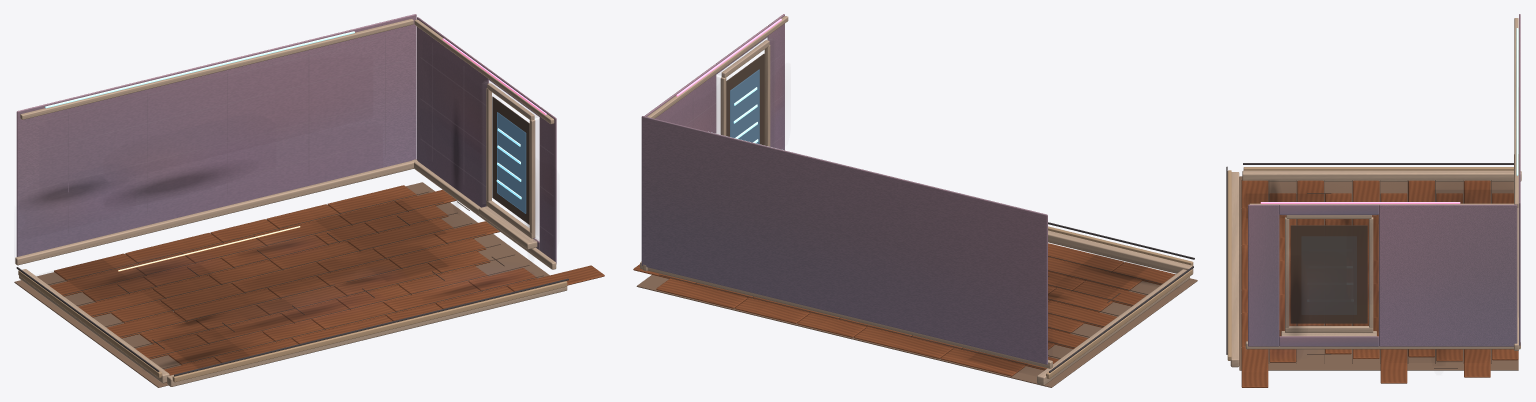
Rendered from p2s_bruno_room_surface_kit.glb.
3 views of the same model, side by side, from view 1: azimuth 30°, elevation 25°; view 2: azimuth 150°, elevation 25°; view 3: azimuth 270°, elevation 25° (orthographic). The views are drawn at different scales.
Parts seen in each view (by area): view 1: surface_back_plaster_textured_panel, surface_cycles_baked_floor_ao_probe_full_room, surface_right_plaster_segment_back_of_window, surface_floor_warm_gap_substrate, surface_back_baseboard_cream_trim, surface_right_window_recess_shadow_panel, surface_back_crown_trim, surface_front_cutaway_plywood_core, surface_right_plaster_segment_front_of_window, surface_right_window_deep_glass, surface_front_cutaway_wood_edge, surface_floor_plank_1_0 (+70 smaller); view 2: surface_back_plaster_textured_panel, surface_floor_warm_gap_substrate, surface_cycles_baked_floor_ao_probe_full_room, surface_right_window_recess_shadow_panel, surface_right_plaster_segment_back_of_window, surface_right_plaster_segment_front_of_window, surface_front_cutaway_wood_edge, surface_right_window_deep_glass, surface_back_baseboard_cream_trim, surface_floor_plank_9_1, surface_floor_plank_1_0, surface_left_cutaway_wood_edge (+15 smaller); view 3: surface_right_plaster_segment_back_of_window, surface_right_window_recess_shadow_panel, surface_floor_warm_gap_substrate, surface_right_plaster_segment_front_of_window, surface_left_cutaway_wood_edge, surface_cycles_baked_floor_ao_probe_full_room, surface_front_cutaway_wood_edge, surface_right_baseboard_cream_trim, surface_right_plaster_segment_under_window, surface_floor_plank_0_5, surface_right_plaster_segment_above_window, surface_left_cutaway_plywood_core (+34 smaller).
Boxes of the visible parts, box(x1,y1,x2,y2) form: surface_back_plaster_textured_panel: box(16, 14, 416, 256); surface_cycles_baked_floor_ao_probe_full_room: box(55, 200, 447, 367); surface_right_plaster_segment_back_of_window: box(417, 17, 488, 207); surface_floor_warm_gap_substrate: box(14, 182, 549, 387); surface_back_baseboard_cream_trim: box(15, 159, 417, 265); surface_right_window_recess_shadow_panel: box(492, 96, 529, 224); surface_back_crown_trim: box(20, 19, 413, 119); surface_front_cutaway_plywood_core: box(172, 281, 567, 382); surface_right_plaster_segment_front_of_window: box(539, 107, 556, 263); surface_right_window_deep_glass: box(497, 112, 526, 213); surface_front_cutaway_wood_edge: box(167, 286, 567, 386); surface_floor_plank_1_0: box(168, 332, 274, 365); surface_back_plaster_textured_panel: box(641, 116, 1047, 364); surface_floor_warm_gap_substrate: box(636, 262, 1197, 387); surface_cycles_baked_floor_ao_probe_full_room: box(968, 255, 1147, 371); surface_right_window_recess_shadow_panel: box(726, 53, 764, 145); surface_right_plaster_segment_back_of_window: box(644, 64, 716, 133); surface_right_plaster_segment_front_of_window: box(767, 14, 784, 150); surface_front_cutaway_wood_edge: box(1048, 230, 1193, 275); surface_right_window_deep_glass: box(730, 69, 759, 143); surface_back_baseboard_cream_trim: box(640, 261, 1052, 368); surface_floor_plank_9_1: box(854, 327, 952, 358); surface_floor_plank_1_0: box(1048, 257, 1141, 290); surface_left_cutaway_wood_edge: box(1037, 269, 1189, 385); surface_right_plaster_segment_back_of_window: box(1379, 204, 1517, 346); surface_right_window_recess_shadow_panel: box(1290, 225, 1367, 323); surface_floor_warm_gap_substrate: box(1239, 176, 1518, 370); surface_right_plaster_segment_front_of_window: box(1248, 204, 1279, 346); surface_left_cutaway_wood_edge: box(1242, 170, 1521, 181); surface_cycles_baked_floor_ao_probe_full_room: box(1246, 190, 1512, 332); surface_front_cutaway_wood_edge: box(1230, 172, 1239, 367); surface_right_baseboard_cream_trim: box(1245, 341, 1520, 349); surface_right_plaster_segment_under_window: box(1279, 336, 1378, 346); surface_floor_plank_0_5: box(1241, 347, 1268, 387); surface_right_plaster_segment_above_window: box(1279, 204, 1378, 214); surface_left_cutaway_plywood_core: box(1243, 167, 1513, 170).
Bounding box in the file's own units: 7.05 × 2.68 × 4.14.
16 materials, 7 textured.
